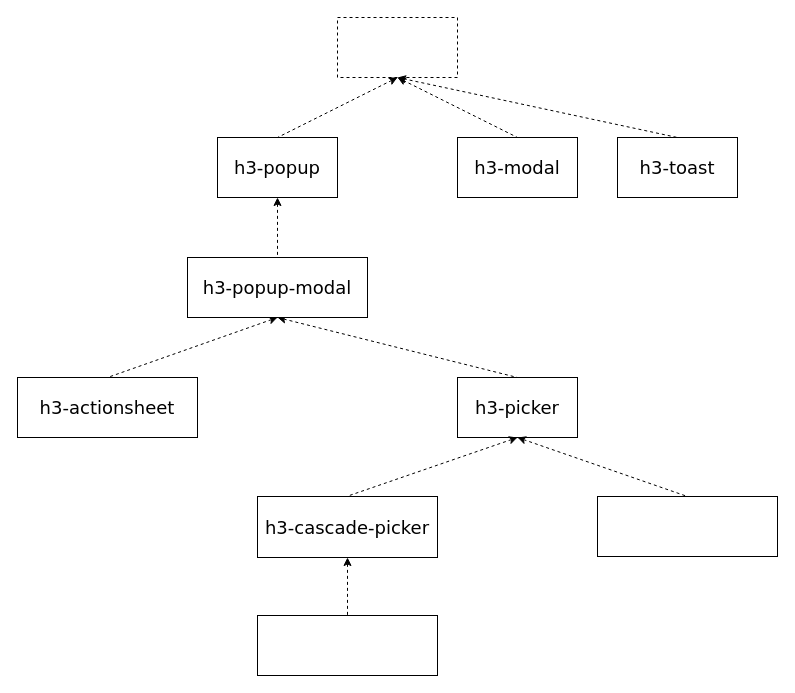
This 795x693 diagram has some shape labels left out. The shapes that lost their labels are listed below. From the top down, each one's centre as x and y in pixels, then its label:
the point at 397,47: i-popup
the point at 687,526: h3-datetime-picker
the point at 347,645: h3-area-picker
